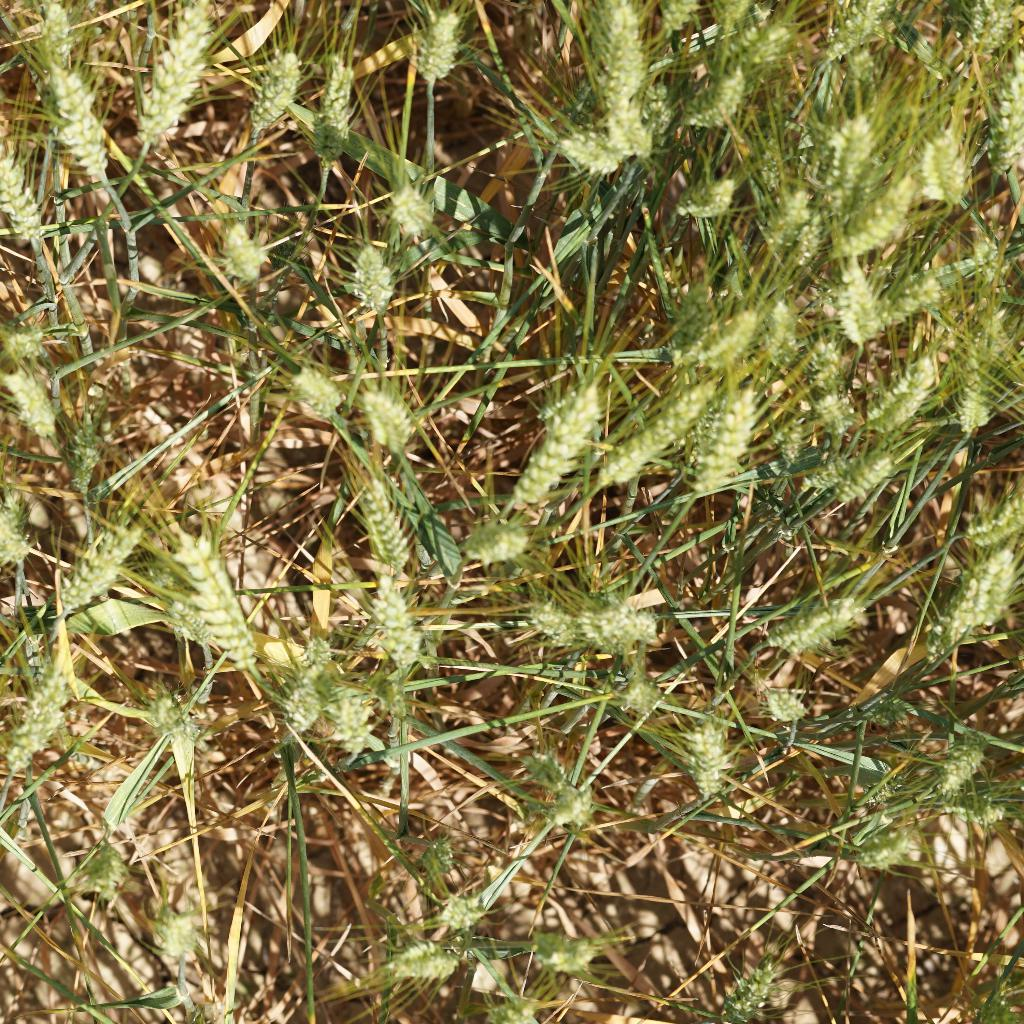0-0: (157, 523, 268, 662), (601, 374, 717, 496), (134, 0, 217, 155), (512, 373, 604, 512), (929, 546, 1020, 675), (686, 384, 772, 516), (43, 66, 127, 193), (33, 530, 137, 627), (938, 306, 1011, 443), (342, 468, 426, 578), (762, 582, 867, 651), (241, 33, 306, 141), (2, 684, 78, 776), (515, 911, 609, 985), (826, 185, 911, 262), (357, 387, 433, 471), (0, 134, 55, 247), (867, 365, 944, 445), (264, 651, 332, 739), (370, 929, 466, 991), (822, 0, 910, 67), (344, 234, 406, 329), (672, 299, 748, 376), (712, 947, 788, 1024), (7, 362, 75, 448), (210, 200, 272, 294), (671, 717, 731, 811), (362, 578, 426, 665), (935, 772, 1024, 834), (823, 257, 882, 348), (310, 51, 354, 173), (273, 362, 358, 425), (587, 0, 642, 97), (578, 593, 669, 651), (882, 264, 949, 342), (981, 58, 1024, 178), (807, 438, 890, 500), (940, 499, 1023, 561), (324, 676, 385, 755), (915, 123, 970, 208), (697, 56, 754, 138), (463, 501, 535, 564), (836, 819, 918, 874), (0, 486, 52, 572), (599, 86, 657, 163), (417, 4, 468, 90), (789, 326, 851, 396), (75, 833, 135, 905), (923, 725, 987, 792), (61, 408, 107, 501), (382, 171, 434, 253), (548, 116, 620, 175), (833, 98, 879, 189), (12, 0, 83, 57), (735, 671, 810, 724), (956, 0, 1024, 57), (743, 128, 799, 197), (743, 22, 796, 91), (428, 877, 487, 938), (524, 583, 576, 650), (149, 903, 206, 963), (684, 159, 737, 221), (757, 178, 807, 243), (594, 662, 657, 713), (146, 688, 199, 746), (259, 217, 310, 277), (536, 782, 598, 829), (815, 387, 863, 447), (416, 829, 474, 878), (636, 79, 678, 144), (524, 736, 575, 787), (163, 595, 216, 642), (754, 307, 798, 362), (0, 315, 51, 362), (787, 211, 827, 270), (964, 232, 1008, 284), (650, 0, 701, 44), (727, 8, 771, 59), (857, 768, 912, 807), (850, 695, 912, 729), (771, 417, 807, 474), (300, 633, 333, 669)
